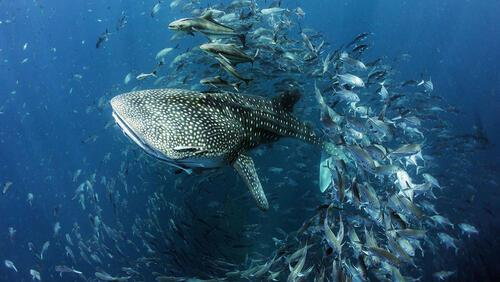sheep: (110, 85, 376, 212)
